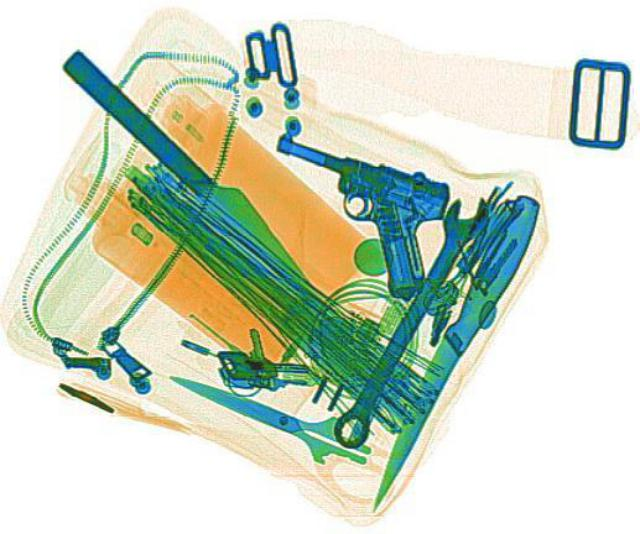Gun: (223, 128, 472, 299)
Knife: (52, 40, 338, 307), (354, 188, 550, 514), (152, 353, 382, 474)
Wrench: (319, 186, 501, 449)
